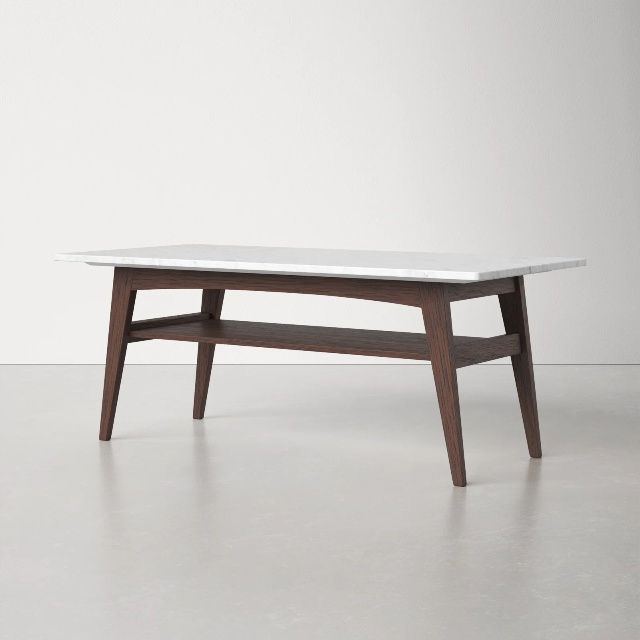obstacle: (56, 244, 585, 486)
